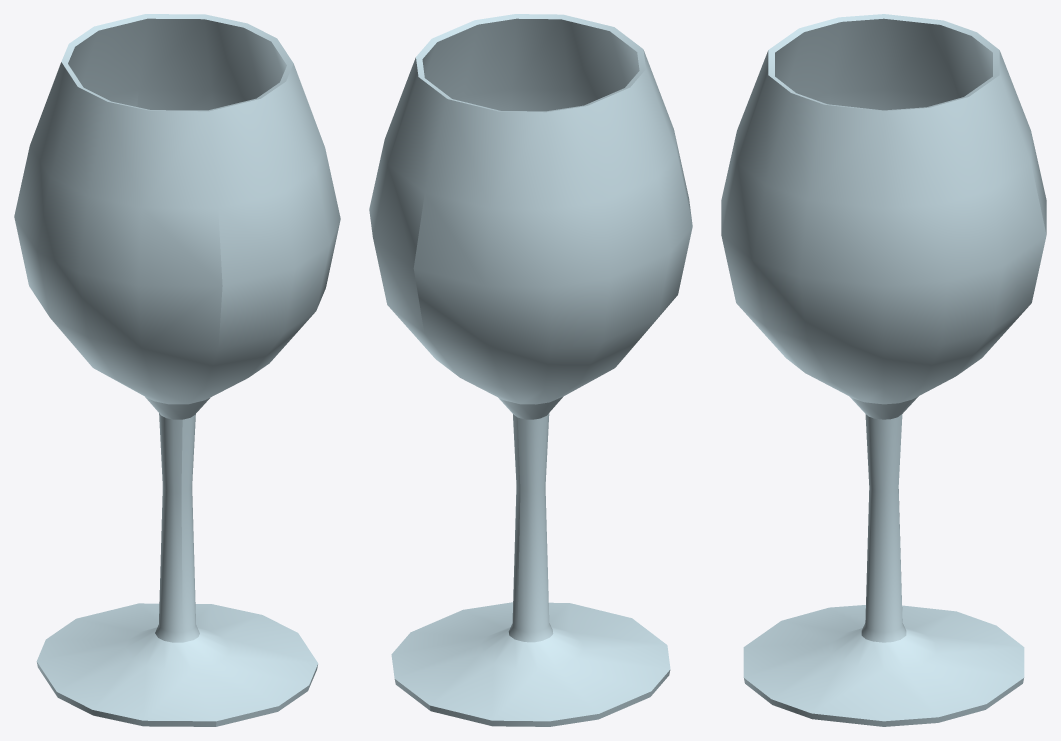
The model's file is Wine Glass.fbx.
The picture shows the model from 3 angles, left to right: view 1: azimuth 30°, elevation 25°; view 2: azimuth 150°, elevation 25°; view 3: azimuth 270°, elevation 25°; orthographic projection.
Parts seen in each view (by area): view 1: Wine Glass; view 2: Wine Glass; view 3: Wine Glass.
Boxes of the visible parts, left/top/right/bottom form: Wine Glass: left=14, top=14, right=340, bottom=726; Wine Glass: left=369, top=14, right=692, bottom=726; Wine Glass: left=721, top=14, right=1046, bottom=726.
Bounding box in the file's own units: 33.17 × 68.61 × 33.37.
